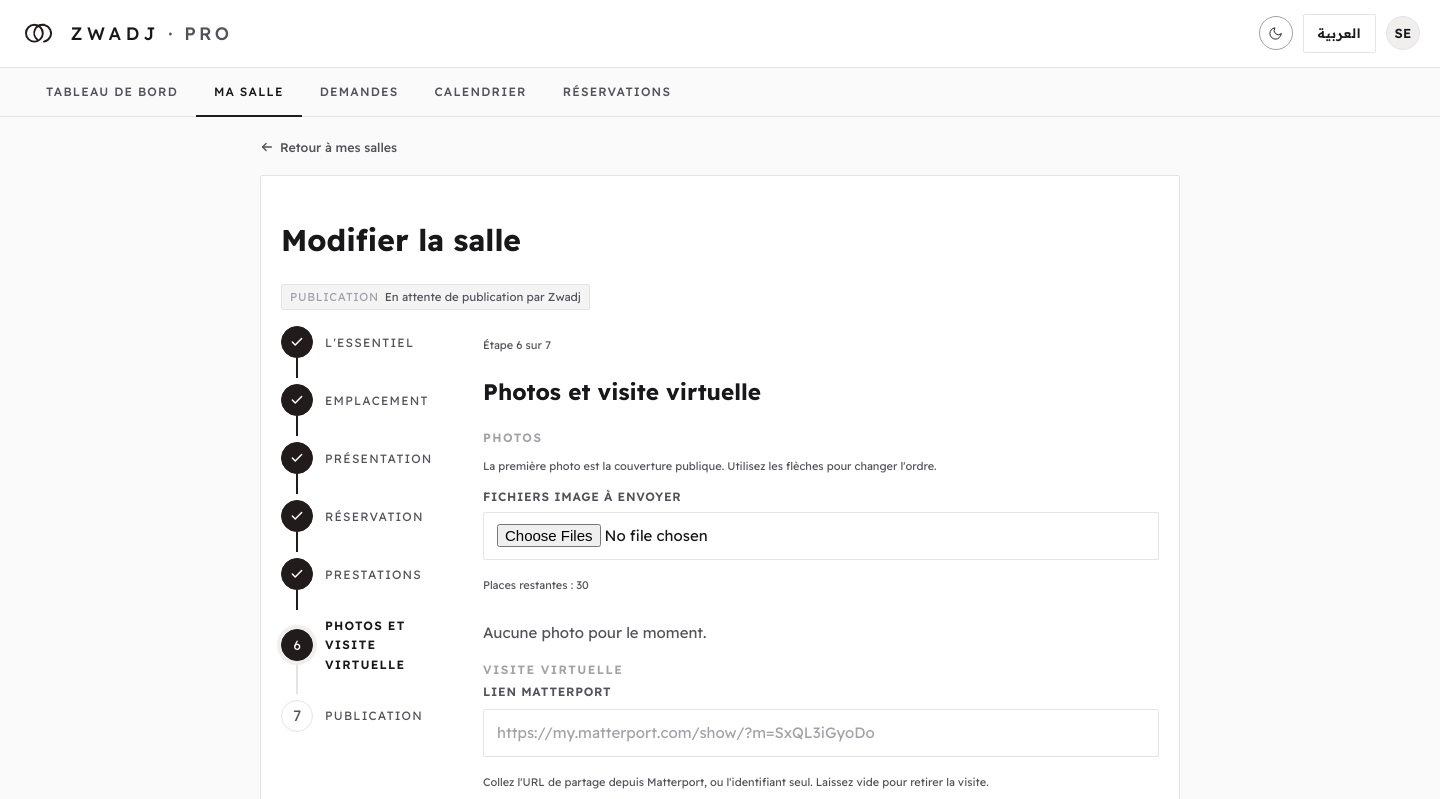
Scenario: Édition — PATCH par diff, 404 indistinct, équipements › 409 MATTERPORT_ALREADY_LINKED : message métier traduit, pas l'erreur générique
Type "SxQL3iGyoDo" into the field labelled "Lien Matterport". click: [821, 733]
box: [483,709,1159,757]
(page scrolled)
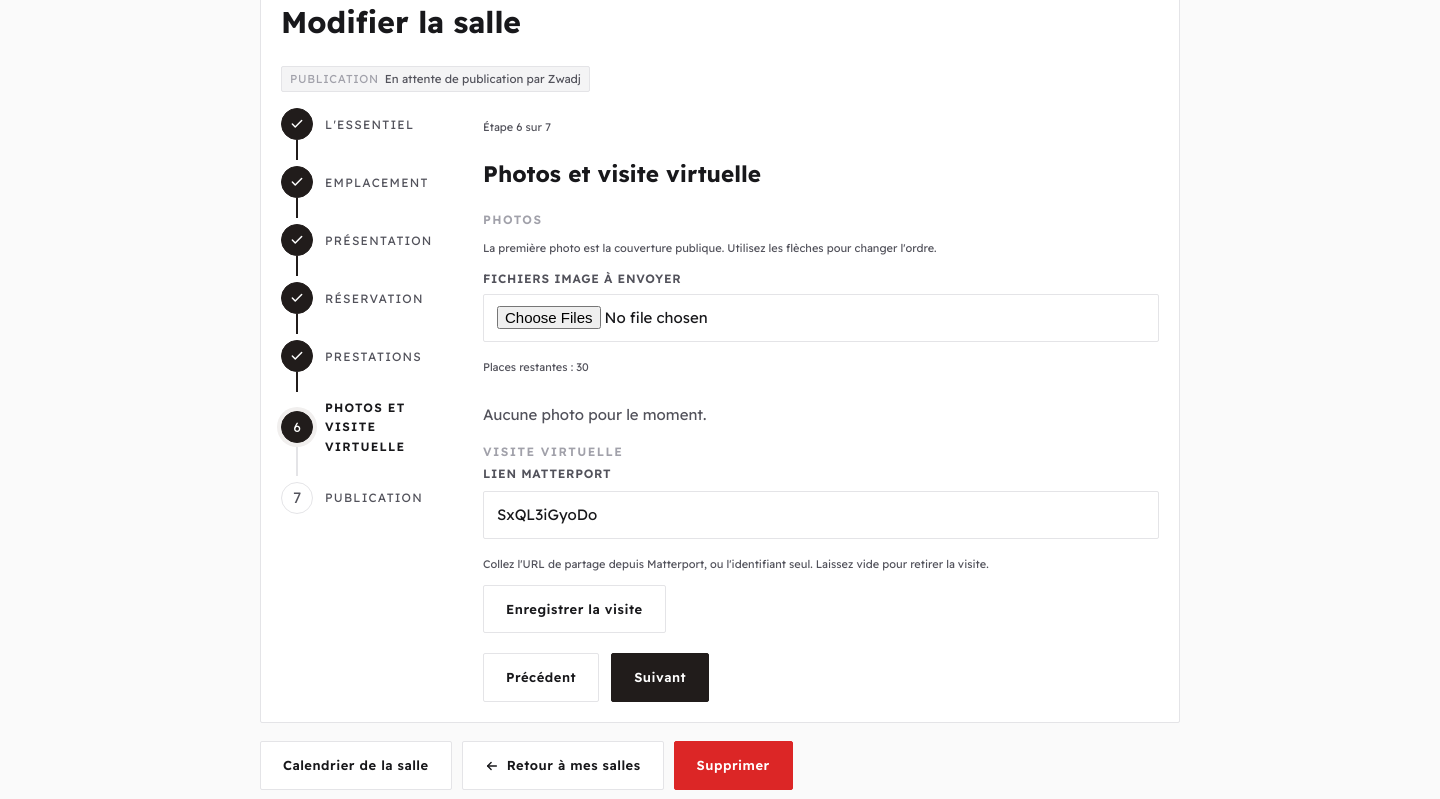
Click the button "Enregistrer la visite". click: [574, 609]
box: [483,584,666,633]
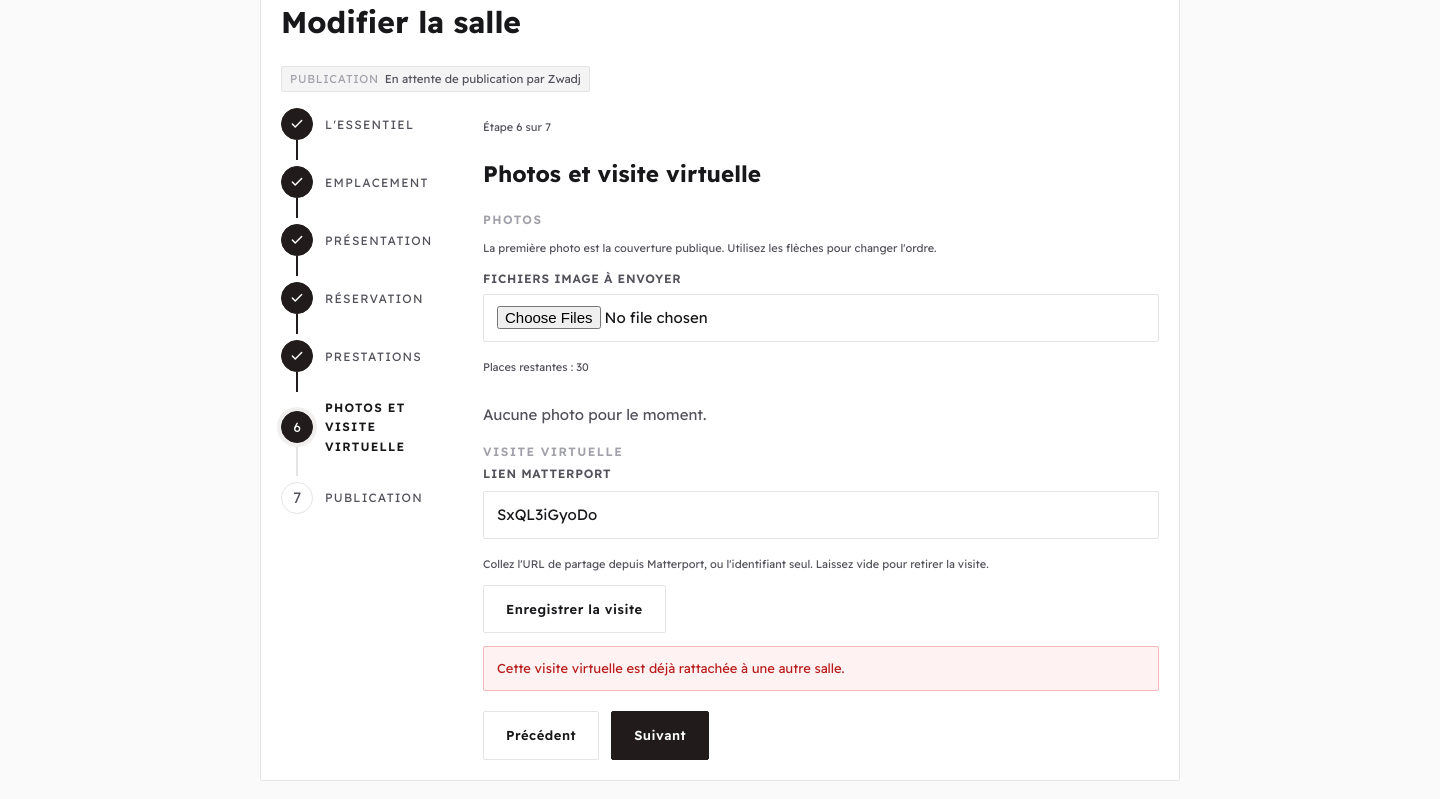
expect the text "Cette visite virtuelle est déjà rattachée à une autre salle." is shown: met, box [483,646,1159,691]
